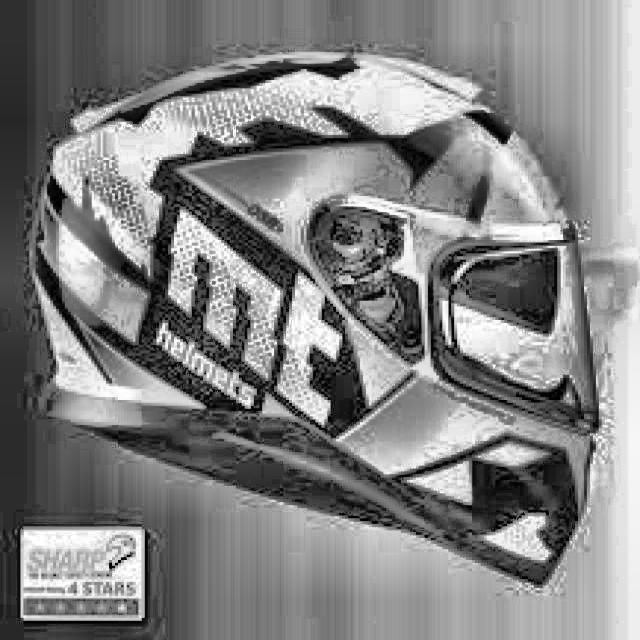Helmet: (29, 48, 597, 600)
